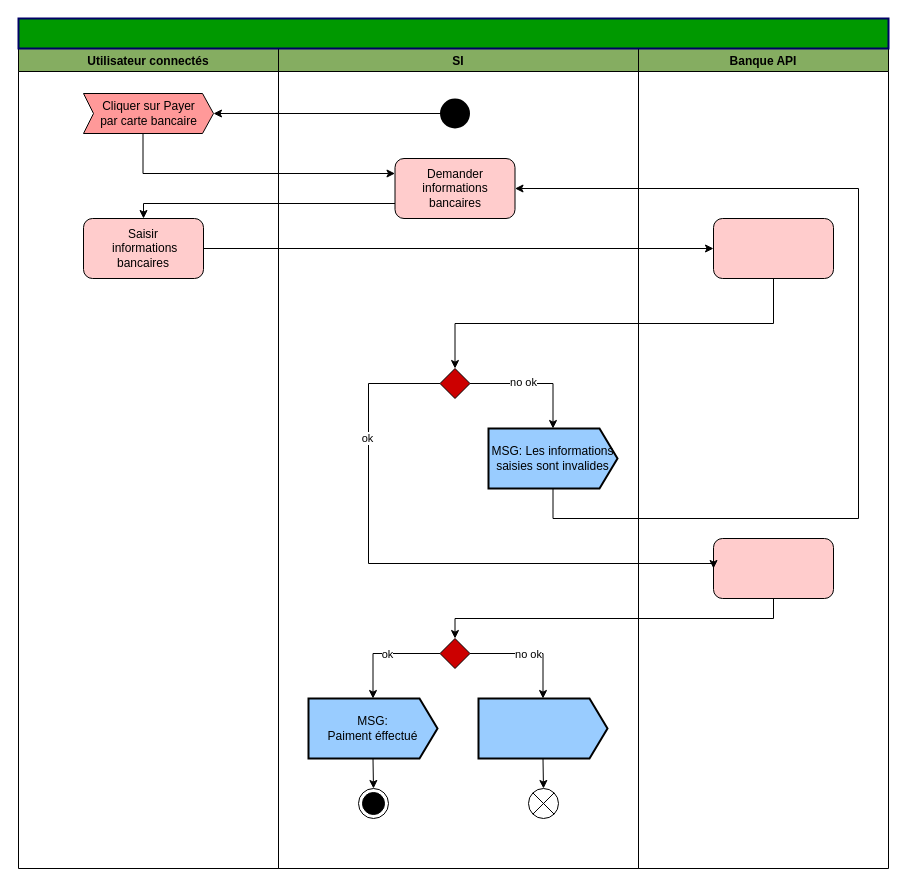
The diagram is 906 pixels wide and 886 high, and some of its shapes have lost their labels. Here are the shapes that lost their labels. From the top down, the centre of each, then its label:
point (453, 33): Payer en CB
point (773, 248): Vérifier informations
point (773, 568): Vérifier disponibilité des fonds
point (542, 728): MSG: Le paiement à échoué
